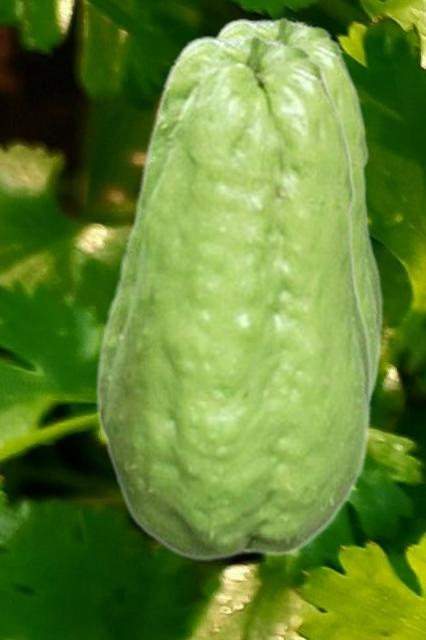sayote: (94, 33, 374, 562), (214, 16, 384, 402)
